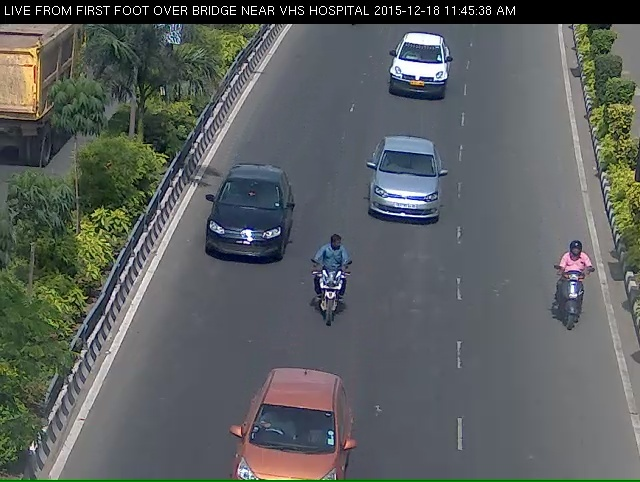Car: (222, 387, 355, 481), (196, 179, 295, 290), (361, 137, 451, 252), (375, 36, 461, 110)
Person: (313, 251, 352, 353), (555, 251, 593, 345)
